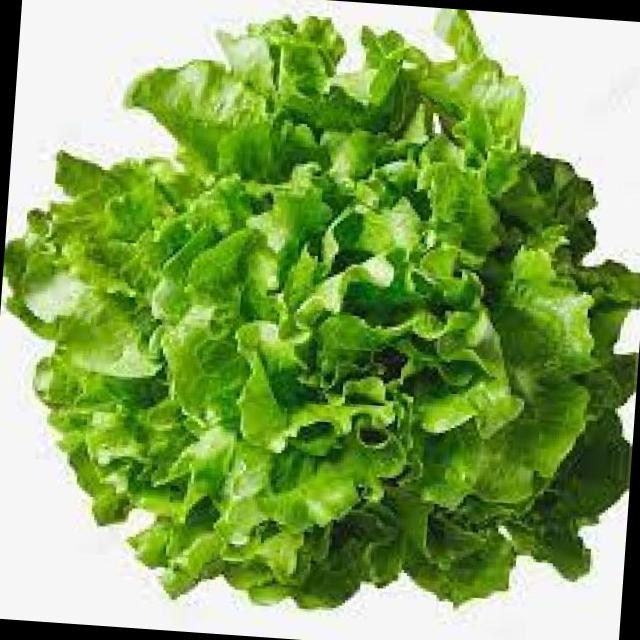Lettuce-Ready-to-Harvest: (3, 8, 640, 617)
